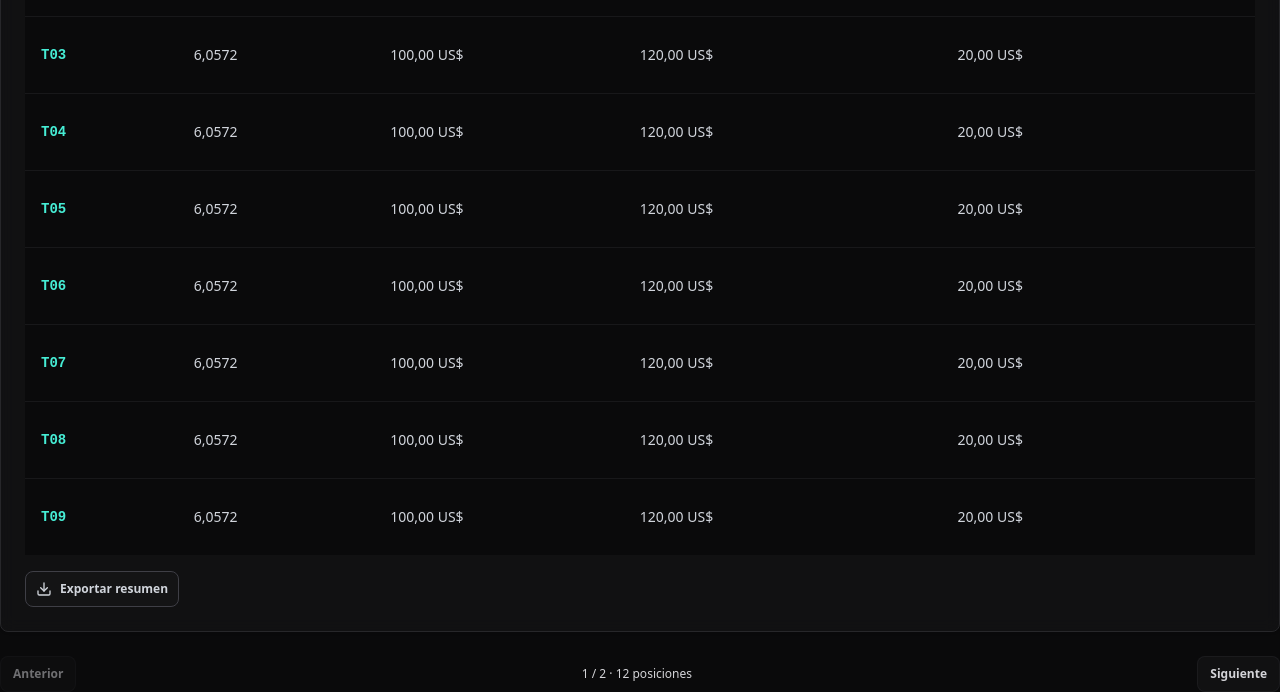
Test case: TaxesView posiciones y exportacion › pagina de 10 en 10
This screenshot has width=1280, height=692.
(page scrolled)
Expected: the text "1 / 2 · 12 posiciones" is shown, [582, 666, 692, 682]
Click the button "Siguiente" at (1239, 674), box [1197, 656, 1279, 691]
(page scrolled)
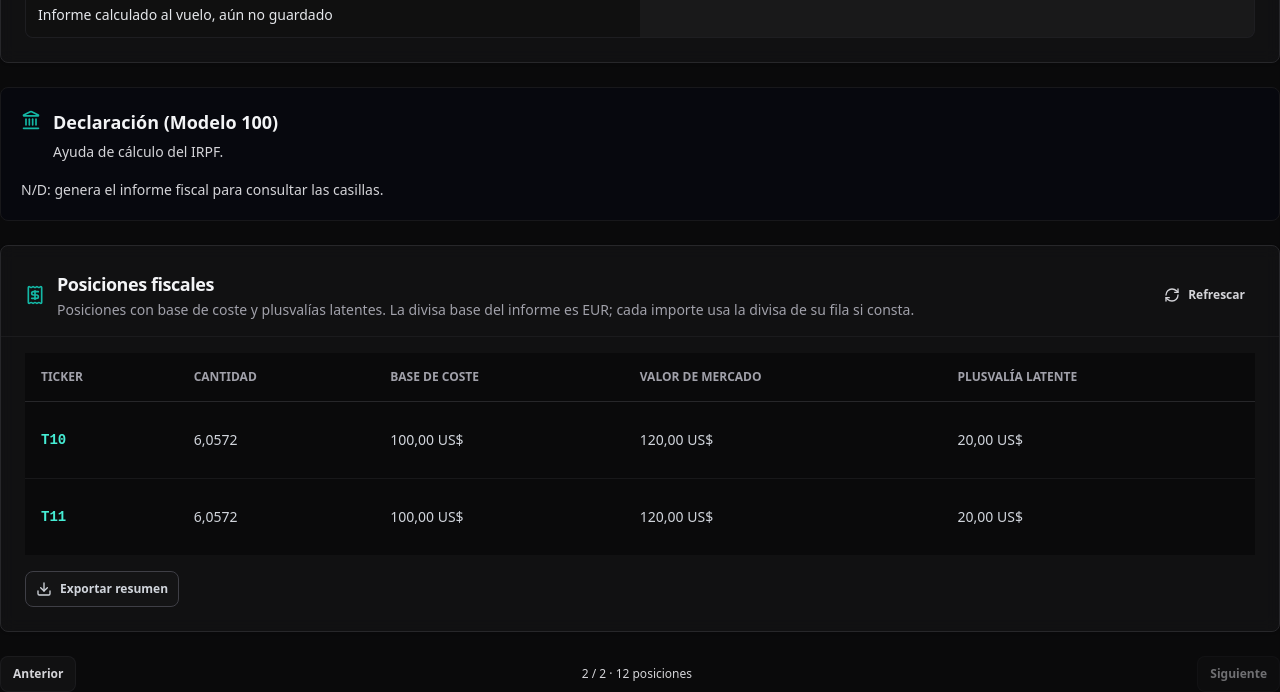
Now the link "T11" is shown, box [41, 508, 66, 524]
Now the text "2 / 2 · 12 posiciones" is shown, box [582, 666, 692, 682]
Click the button "Anterior" at (38, 674), box [0, 656, 76, 691]
(page scrolled)
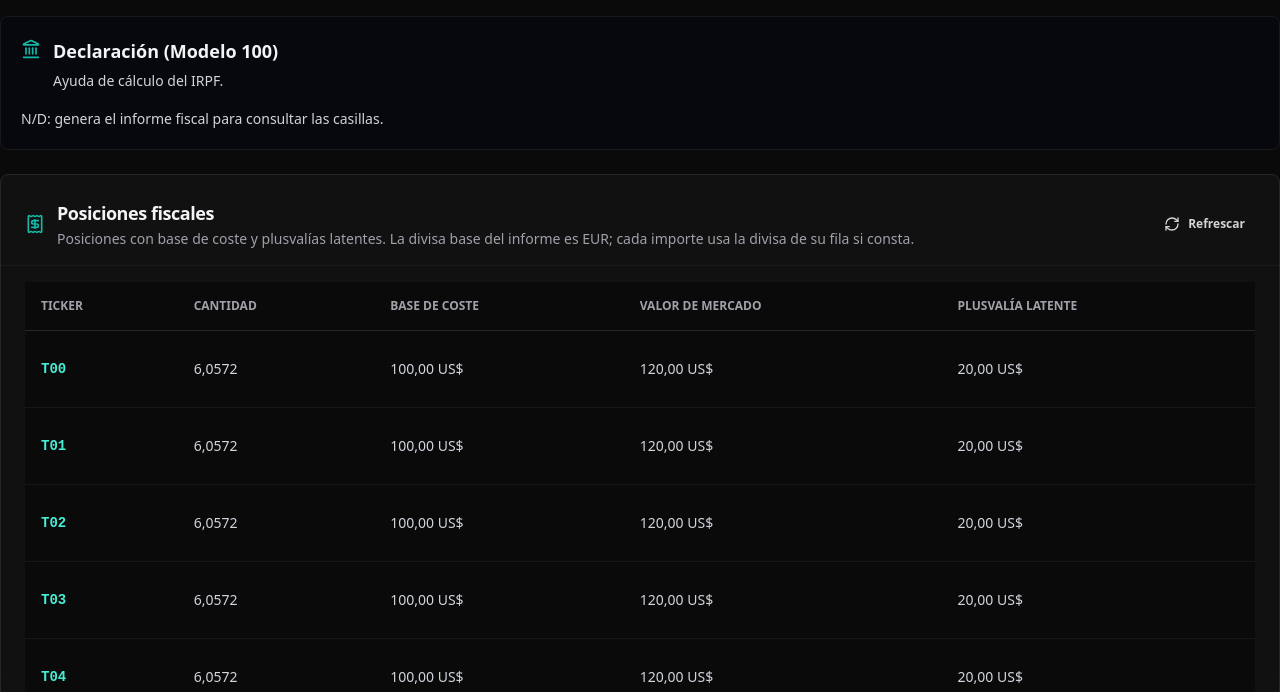
Now the link "T00" is shown, box [41, 360, 66, 376]
